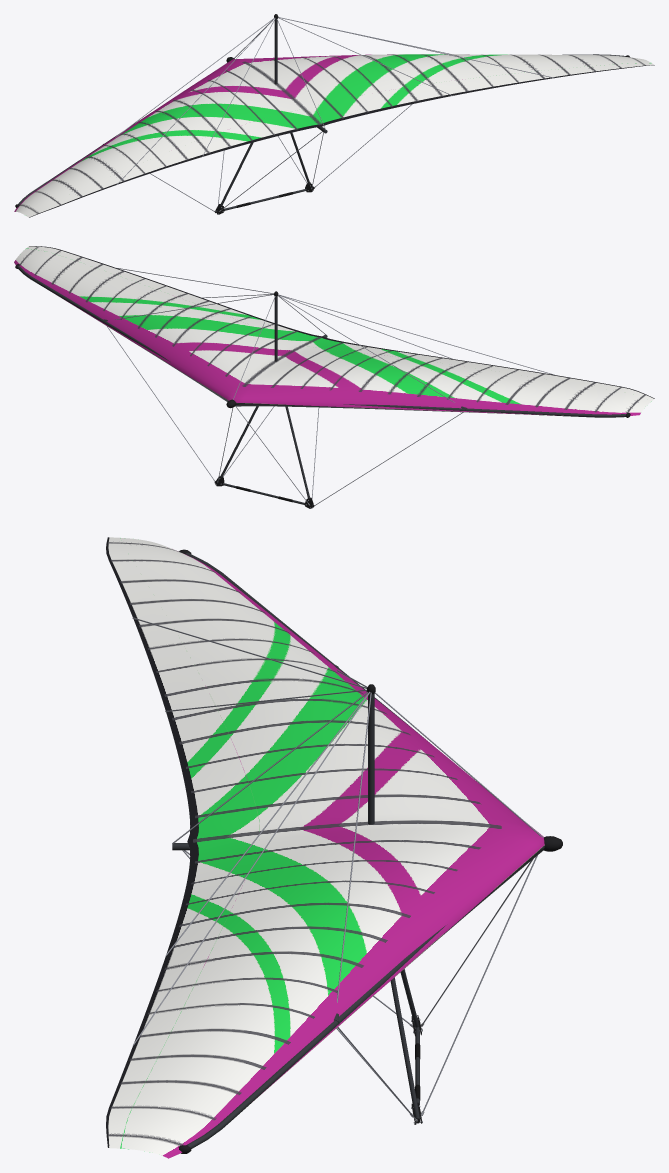
File: glider_moyes_litesport.glb
3 views of the same model, one above another, from view 1: azimuth 30°, elevation 25°; view 2: azimuth 150°, elevation 25°; view 3: azimuth 270°, elevation 25° (orthographic). The views are drawn at different scales.
Parts seen in each view (by area): view 1: Sail, Frame, ControlFrame; view 2: Sail, Frame, ControlFrame; view 3: Sail, Frame, ControlFrame.
Part boxes in pixels (left/top/right/bottom): Sail: left=14, top=54, right=654, bottom=217; Frame: left=15, top=14, right=629, bottom=207; ControlFrame: left=150, top=104, right=412, bottom=214; Sail: left=14, top=246, right=654, bottom=416; Frame: left=15, top=264, right=630, bottom=417; ControlFrame: left=107, top=326, right=463, bottom=508; Sail: left=106, top=537, right=544, bottom=1158; Frame: left=132, top=549, right=562, bottom=1153; ControlFrame: left=182, top=850, right=537, bottom=1124.
Bounding box in the file's own units: 9.6 × 2.89 × 3.04.
8 materials, 1 textured.
